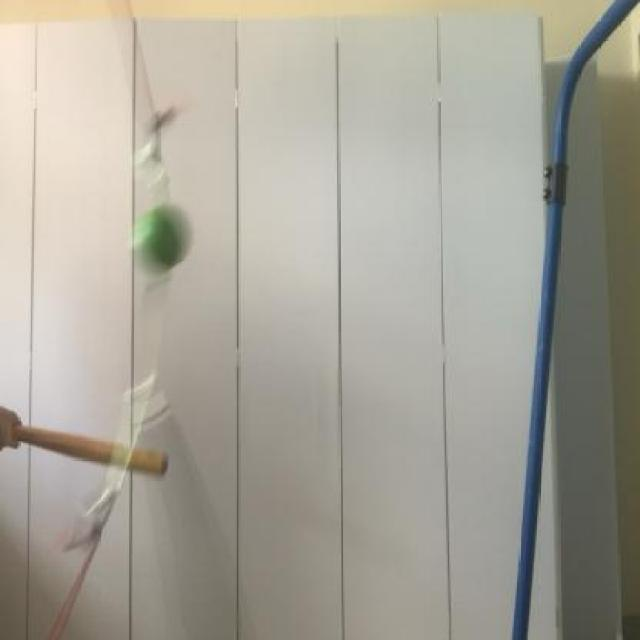baseball: (120, 198, 188, 278)
